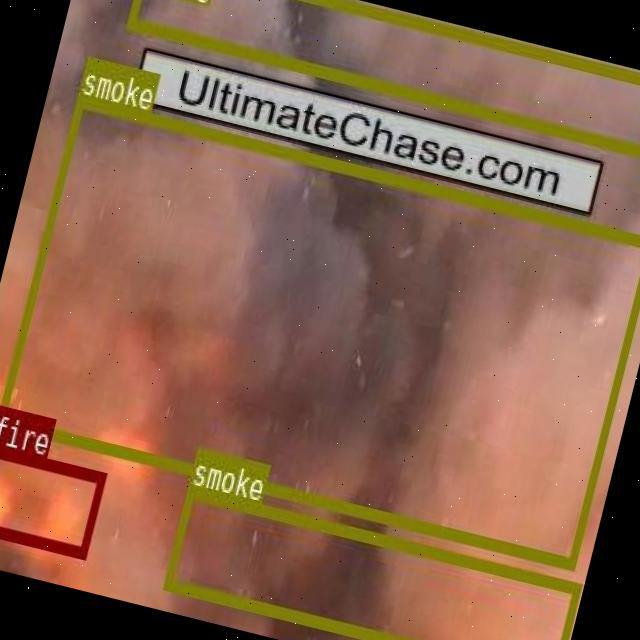fire: (0, 441, 105, 556)
smoke: (0, 94, 640, 568), (124, 0, 640, 156), (162, 484, 580, 640)
